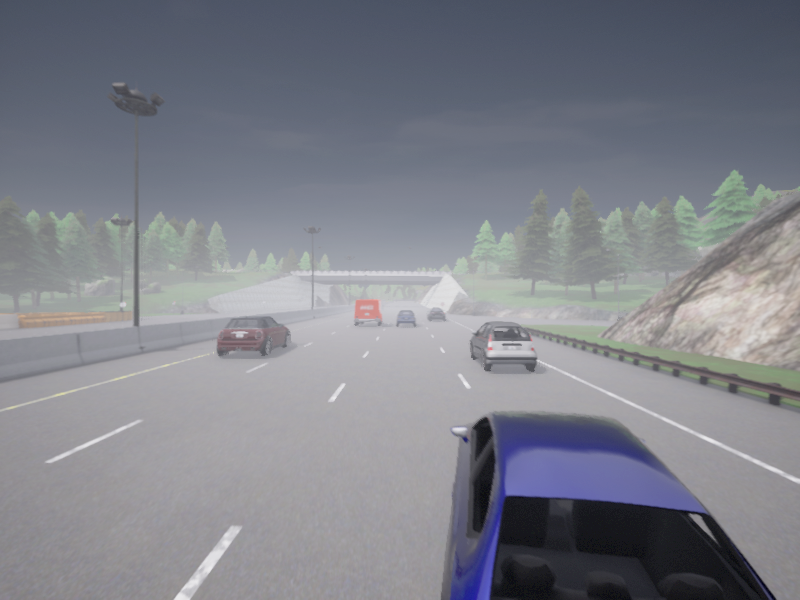vehicle: (440, 410, 775, 599), (469, 322, 536, 370), (217, 316, 290, 355), (354, 299, 383, 325), (396, 310, 416, 325), (427, 307, 445, 320)
